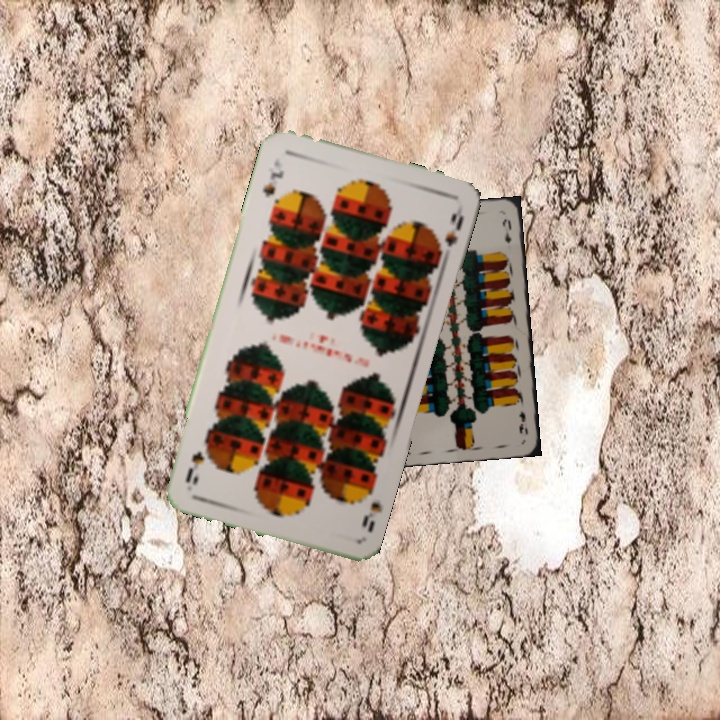E9: (515, 406, 530, 437)
S9: (357, 480, 384, 535), (258, 153, 287, 199)
